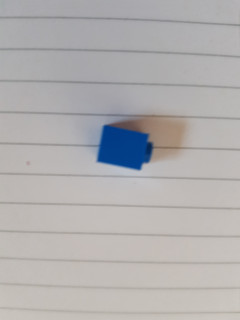1x1 blue: (95, 124, 153, 171)
